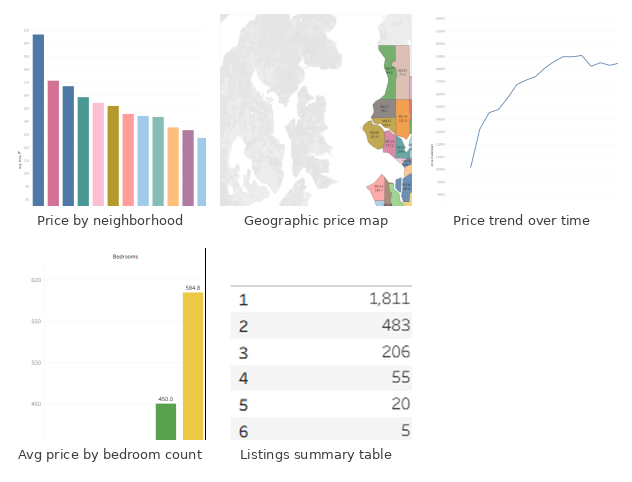

Layout of this report page (visuals, bound fields, positions):
{"tool":"tableau","page":{"name":"Dashboard 1","canvas":[1000,1000],"units":"permille","ordinal":0},"visuals":[{"type":"worksheet","title":"Sheet 4","mark":"Automatic","rows":["price"],"cols":["bedrooms"],"box":[3.4,6.1,749,373.5]},{"type":"worksheet","title":"Sheet 5","mark":"Automatic","rows":["bedrooms"],"box":[752.5,6.1,244.1,373.5]},{"type":"worksheet","title":"Sheet 2","mark":"Multipolygon","box":[3.4,379.6,226.5,614.3]},{"type":"worksheet","title":"Sheet 1","mark":"Automatic","rows":["price"],"cols":["zipcode"],"box":[230,379.6,318.7,614.3]},{"type":"legend","title":"Sheet 1","param":"[federated.116stbi03agzej19sm12s1nsmy67].[none:zipcode:ok]","box":[548.7,379.6,62,614.3]},{"type":"worksheet","title":"Sheet 3","mark":"Automatic","rows":["price (Calendar)"],"cols":["date"],"box":[610.7,379.6,385.9,614.3]}]}

Visuals, with their boxes on the dashboard's canvas, which has no fixed pixel size, in thousandths of its width and height (x1, y1, x2, y2). These are canvas units, not pixel positions in the 632x482 screenshot, which may show the page scaled, cropped or inside an application window:
"Sheet 4" worksheet: BBox(3, 6, 752, 380)
"Sheet 5" worksheet: BBox(752, 6, 997, 380)
"Sheet 2" worksheet (Multipolygon marks): BBox(3, 380, 230, 994)
"Sheet 1" worksheet: BBox(230, 380, 549, 994)
"Sheet 1" legend: BBox(549, 380, 611, 994)
"Sheet 3" worksheet: BBox(611, 380, 997, 994)
